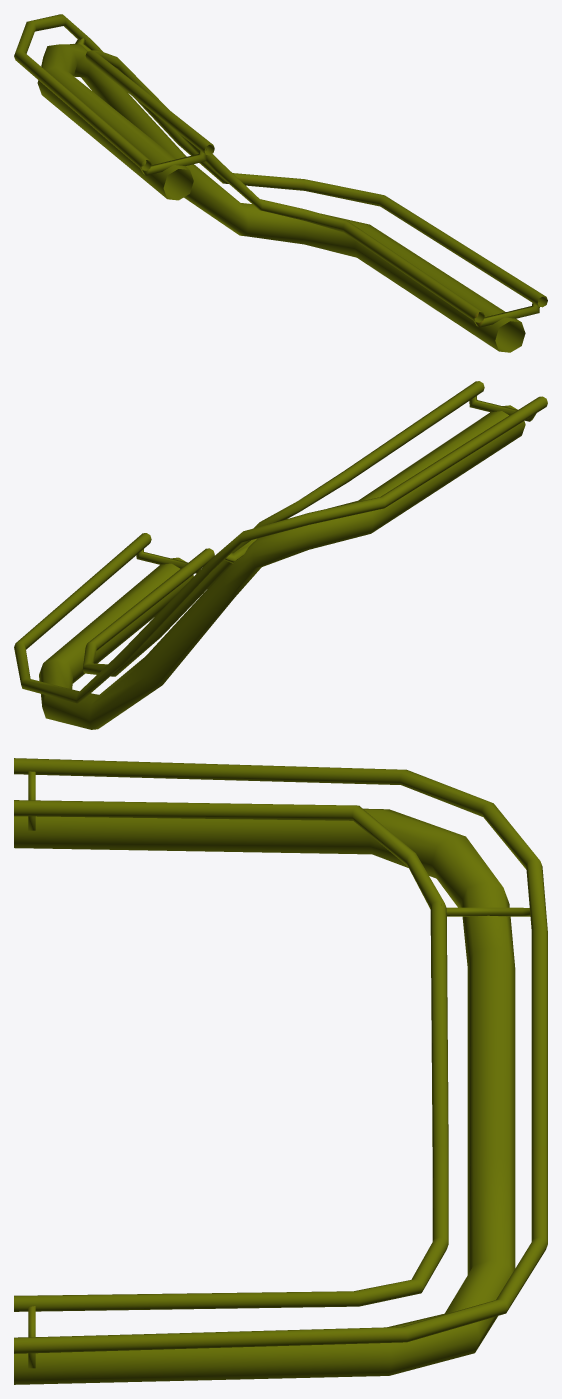
3 views of the same model, one above another, from view 1: azimuth 30°, elevation 25°; view 2: azimuth 150°, elevation 25°; view 3: azimuth 270°, elevation 25° (orthographic). The views are drawn at different scales.
Visible parts, largest first — view 1: Mesh; view 2: Mesh; view 3: Mesh.
Part boxes in pixels (<box>): Mesh: <box>14,14,547,352</box>; Mesh: <box>14,381,547,729</box>; Mesh: <box>14,758,547,1384</box>.
Size of the model in its own units: 365 by 242 by 306.
